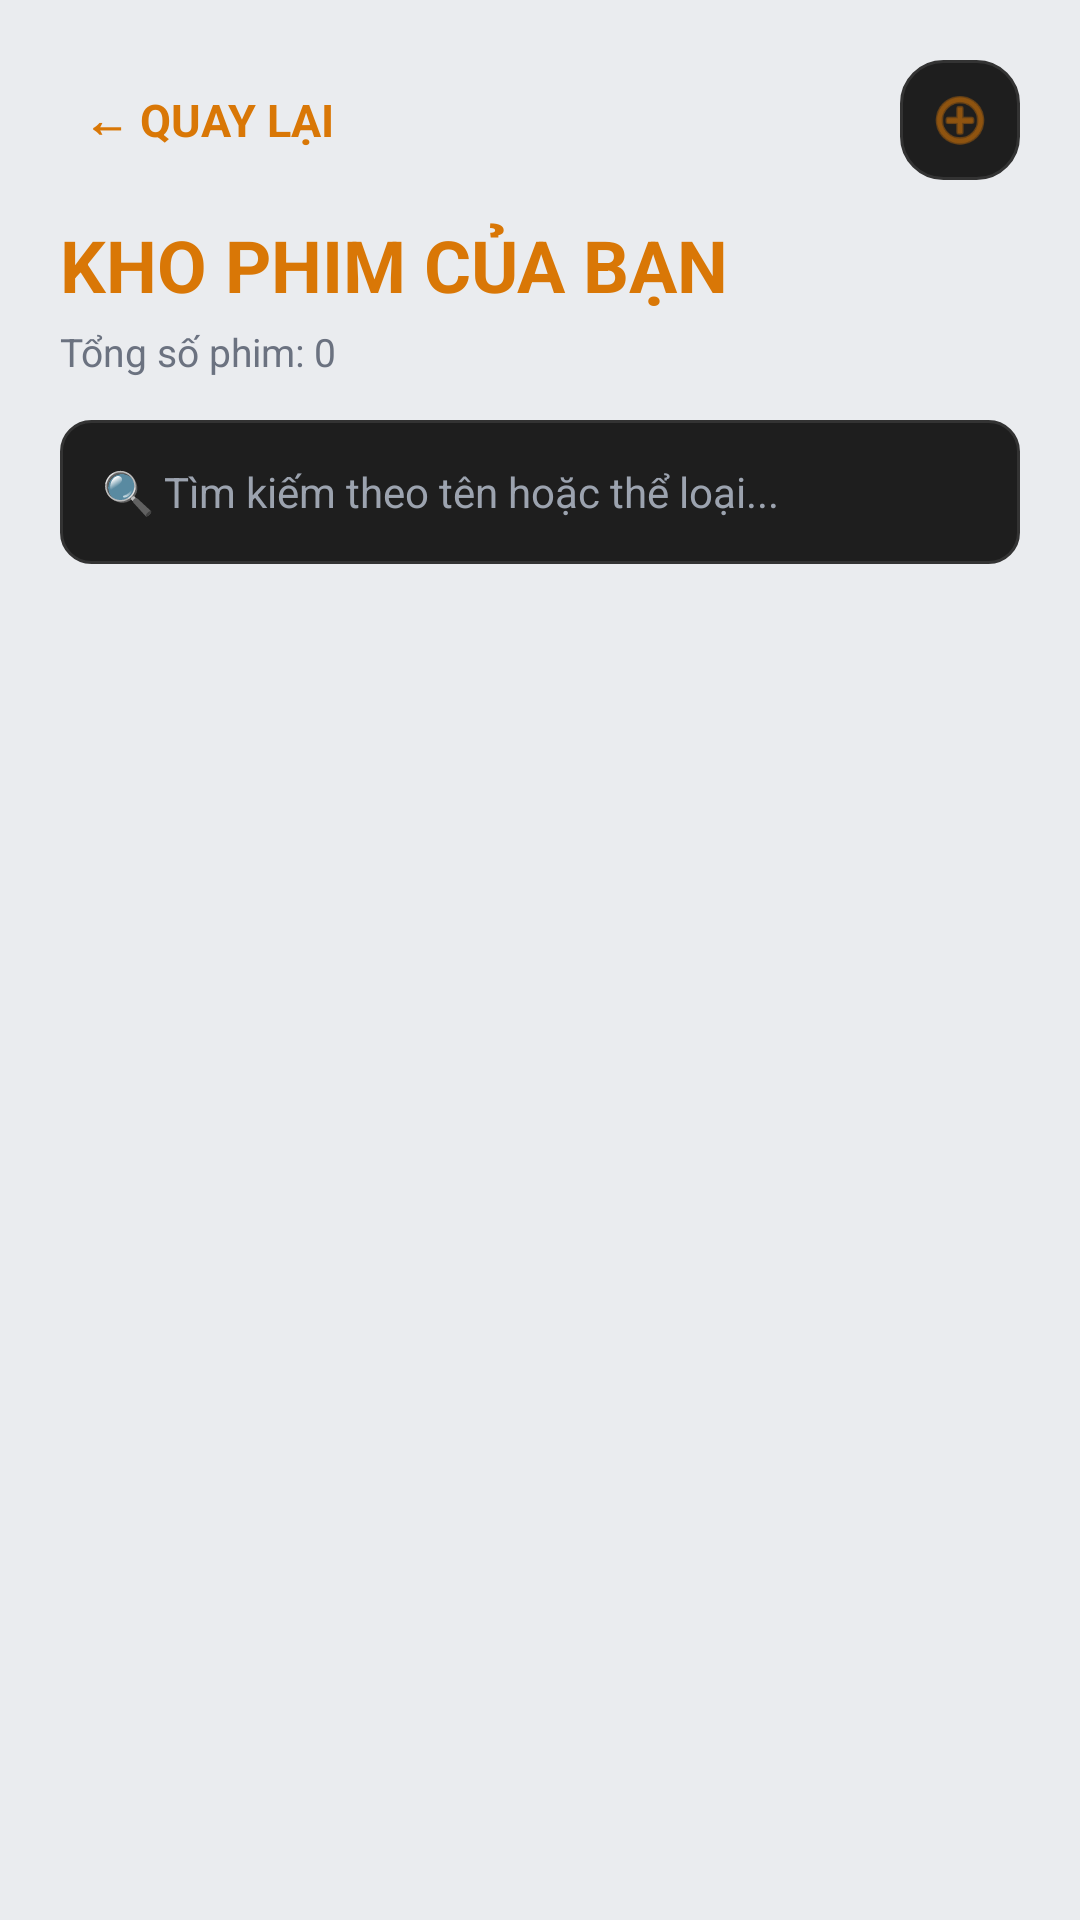

Where to tap for icons on this 1080px x 1920px app screen, as (x,y):
Thêm phim mới: (960,120)
